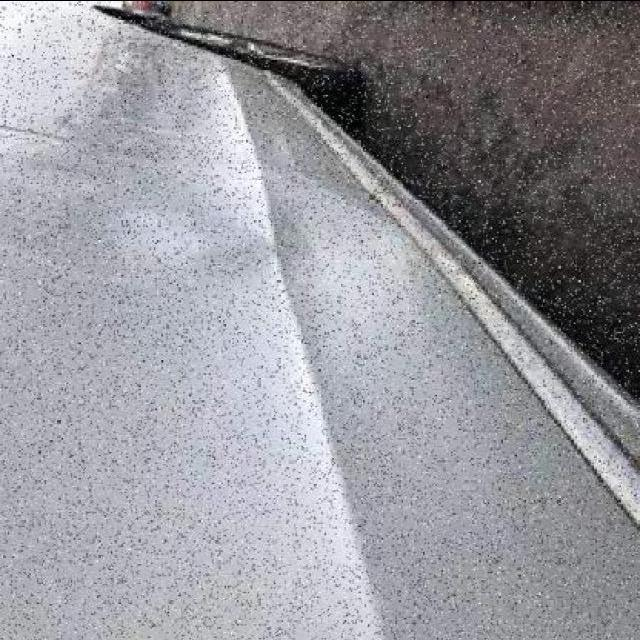RunningBoard-Dent: (79, 55, 83, 58)
doorouter-dent: (0, 165, 469, 640)
